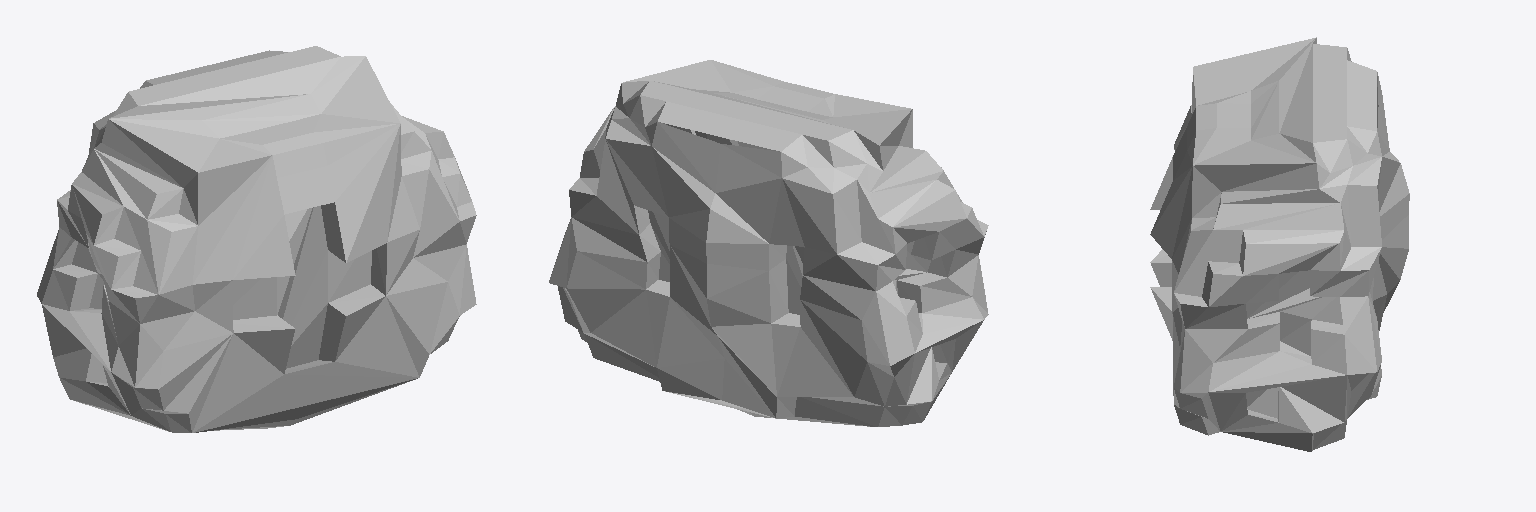
File: VeryLargeMedicalKit_LOD0.obj
3 views of the same model, side by side, from view 1: azimuth 30°, elevation 25°; view 2: azimuth 150°, elevation 25°; view 3: azimuth 270°, elevation 25° (orthographic).
Parts seen in each view (by area): view 1: VeryLargeMedicalKit_LOD0; view 2: VeryLargeMedicalKit_LOD0; view 3: VeryLargeMedicalKit_LOD0.
Boxes of the visible parts, <box> form: VeryLargeMedicalKit_LOD0: <box>37,46,476,432</box>; VeryLargeMedicalKit_LOD0: <box>549,60,988,426</box>; VeryLargeMedicalKit_LOD0: <box>1150,37,1409,451</box>.
Bounding box in the file's own units: 1.43 × 1.23 × 0.8882.